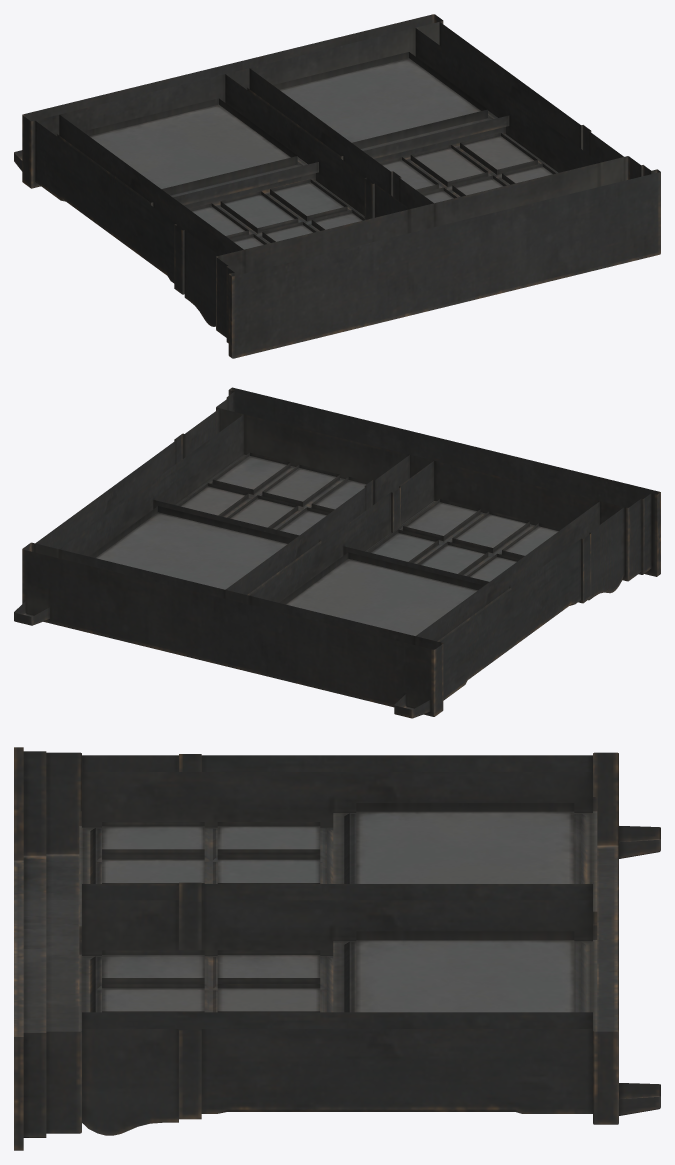
The model's file is window_centered_large_02.gltf.
3 renders of one model, top to bottom at view 1: azimuth 30°, elevation 25°; view 2: azimuth 150°, elevation 25°; view 3: azimuth 270°, elevation 25°, orthographic. The views are drawn at different scales.
Visible parts, largest first — view 1: window_centered_large_02; view 2: window_centered_large_02; view 3: window_centered_large_02.
Boxes of the visible parts, x1,y1,x2,y2 form: window_centered_large_02: (14,14,660,358); window_centered_large_02: (14,387,660,718); window_centered_large_02: (14,747,660,1150).
Bounding box in the file's own units: 2.12 × 0.39 × 2.
2 materials, 2 textured.
